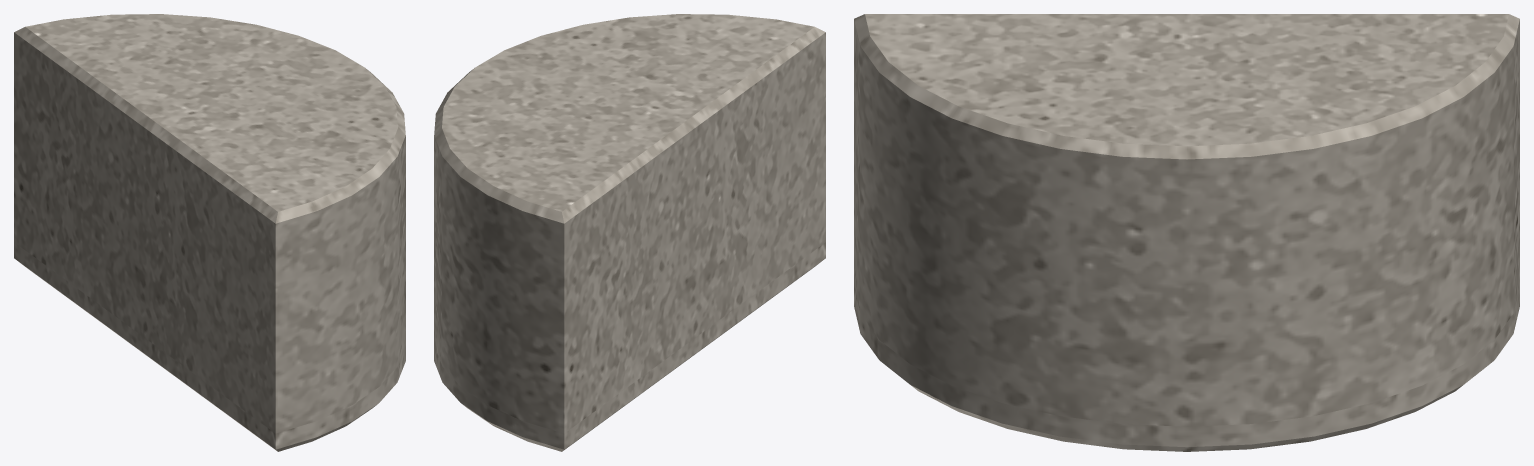
The model's file is GB_021_022_023_024_wall_side_rounded.glb.
3 renders of one model, left to right at view 1: azimuth 30°, elevation 25°; view 2: azimuth 150°, elevation 25°; view 3: azimuth 270°, elevation 25°, orthographic. The views are drawn at different scales.
Parts seen in each view (by area): view 1: GB_021_022_023_024_wall_side_rounded; view 2: GB_021_022_023_024_wall_side_rounded; view 3: GB_021_022_023_024_wall_side_rounded.
Part boxes in pixels (x1=…): GB_021_022_023_024_wall_side_rounded: x1=14, y1=14, x2=405, y2=451; GB_021_022_023_024_wall_side_rounded: x1=434, y1=14, x2=825, y2=451; GB_021_022_023_024_wall_side_rounded: x1=854, y1=14, x2=1519, y2=451.
Bounding box in the file's own units: 0.3748 × 0.3797 × 0.7497.
Materials: 1 (1 with a texture image).
